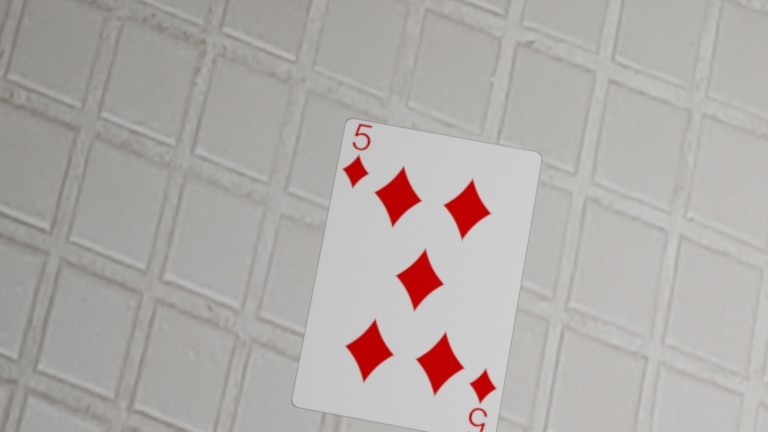5_of_diamonds: (335, 123, 384, 194), (455, 363, 504, 432)
